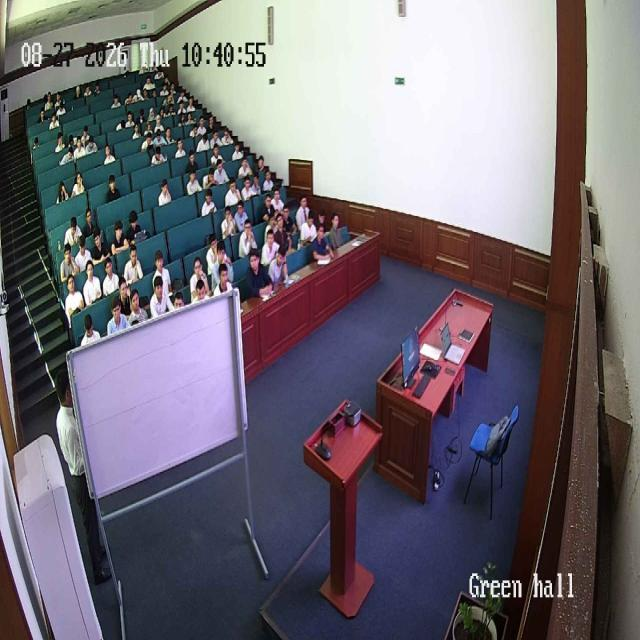person: (54, 367, 110, 585), (243, 248, 273, 299), (149, 274, 175, 318), (64, 273, 86, 325), (152, 247, 172, 296), (206, 233, 224, 287), (83, 258, 103, 306), (106, 298, 130, 335), (268, 246, 290, 286), (124, 243, 144, 286), (60, 242, 80, 285), (90, 225, 110, 268), (326, 212, 346, 254), (102, 257, 122, 299), (189, 255, 209, 297), (238, 216, 258, 258), (127, 287, 149, 325), (261, 226, 281, 266), (74, 232, 92, 276), (312, 223, 332, 261), (126, 209, 146, 247), (213, 262, 234, 298), (110, 219, 130, 256), (297, 207, 315, 247), (64, 214, 82, 254), (79, 314, 101, 346), (220, 204, 238, 242), (224, 177, 242, 211), (295, 195, 311, 232), (274, 212, 290, 249), (233, 196, 249, 232), (191, 276, 211, 304), (260, 191, 275, 228), (241, 173, 259, 203), (105, 172, 121, 205), (186, 164, 202, 197), (98, 140, 117, 167), (201, 186, 217, 218), (71, 168, 87, 200), (82, 205, 96, 241), (157, 178, 173, 209), (212, 154, 227, 183), (259, 167, 274, 193), (150, 143, 166, 166), (56, 179, 70, 205), (272, 182, 286, 208), (152, 62, 168, 84), (196, 132, 212, 154), (173, 136, 185, 162), (74, 140, 88, 162), (203, 167, 217, 189), (281, 202, 292, 230), (220, 123, 233, 146), (61, 146, 74, 168), (155, 126, 168, 148), (208, 128, 222, 148), (209, 141, 221, 164), (314, 204, 326, 226), (79, 124, 92, 144), (85, 133, 96, 156), (142, 73, 153, 96), (164, 127, 177, 146), (152, 112, 164, 132), (239, 154, 251, 174), (186, 90, 199, 108), (172, 290, 183, 311), (109, 92, 121, 111), (234, 141, 246, 160), (48, 112, 59, 132), (140, 131, 152, 149), (185, 152, 197, 170), (29, 135, 41, 153), (132, 87, 143, 106), (188, 122, 200, 139), (123, 88, 133, 108), (73, 80, 84, 98), (198, 114, 207, 136), (44, 92, 54, 110), (174, 101, 186, 116), (136, 108, 147, 124), (56, 130, 64, 151), (52, 91, 64, 105), (158, 81, 168, 97), (131, 120, 141, 136), (178, 88, 188, 104), (176, 110, 186, 126), (114, 119, 126, 132), (206, 110, 214, 128), (256, 154, 266, 168), (84, 80, 92, 97), (147, 105, 155, 122), (58, 100, 68, 113), (93, 82, 102, 96), (158, 105, 167, 119), (126, 112, 135, 125), (188, 108, 195, 124), (143, 120, 151, 133), (166, 90, 173, 104), (169, 80, 175, 96), (38, 107, 45, 120)
